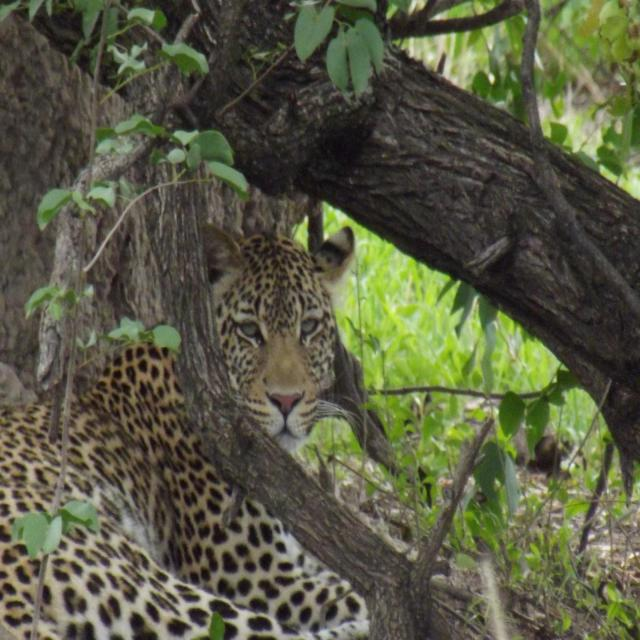Leopard: (0, 231, 381, 640)
